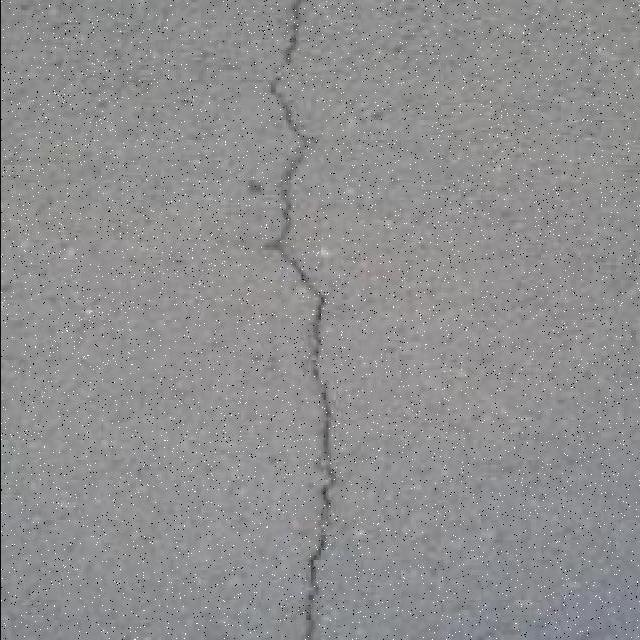crack: (261, 1, 338, 638), (53, 302, 291, 478), (360, 392, 549, 570), (313, 465, 496, 640), (478, 286, 640, 470), (270, 2, 412, 156), (21, 475, 162, 617), (289, 213, 431, 334), (435, 144, 571, 255), (198, 2, 311, 131), (29, 1, 177, 75), (239, 176, 323, 292), (28, 279, 148, 355), (567, 192, 639, 307)
